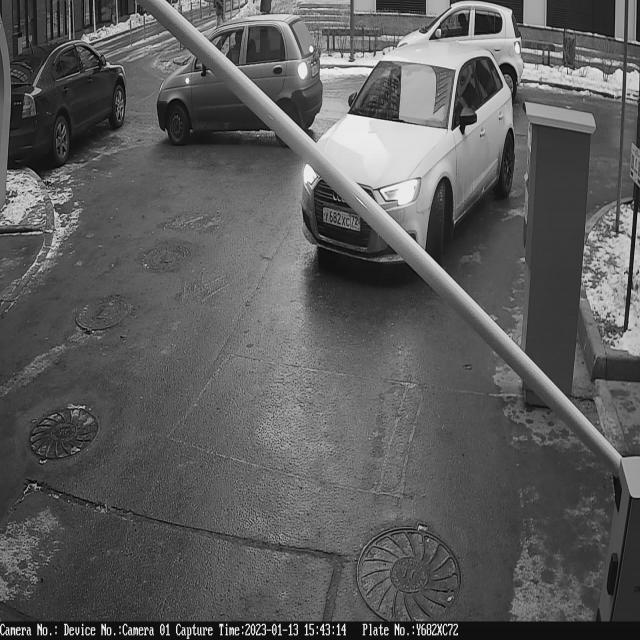car-plate-numbers: (320, 203, 361, 236)
